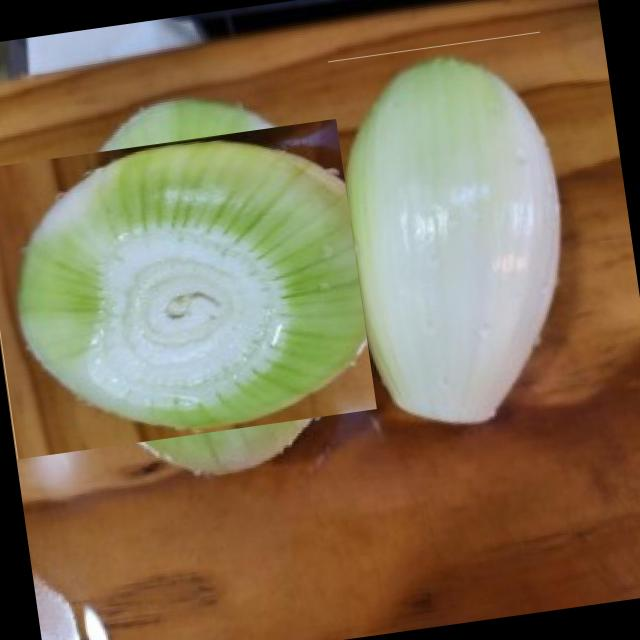Onion: (3, 84, 405, 487), (328, 32, 594, 440)
